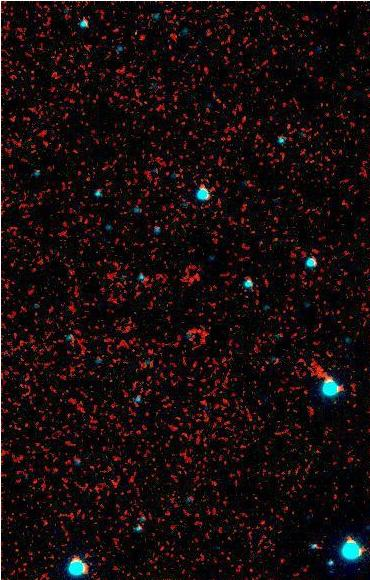star: (122, 15, 152, 45)
